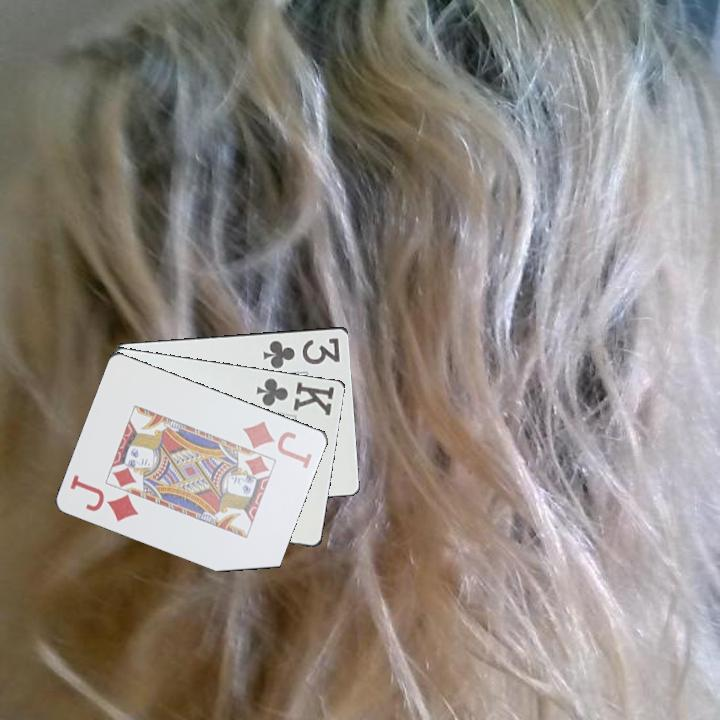3c: (259, 334, 343, 371)
Jd: (239, 417, 316, 470), (67, 471, 142, 525)
Kc: (253, 374, 338, 418)
